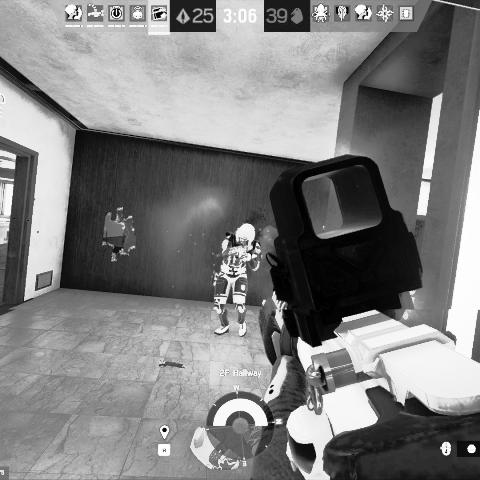Character: (211, 222, 264, 338)
Head: (235, 223, 256, 247)
